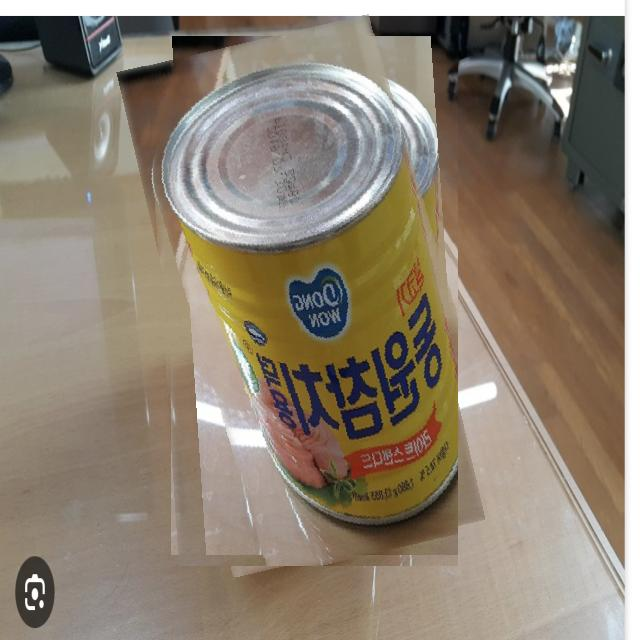recyclable: (143, 25, 458, 566)
